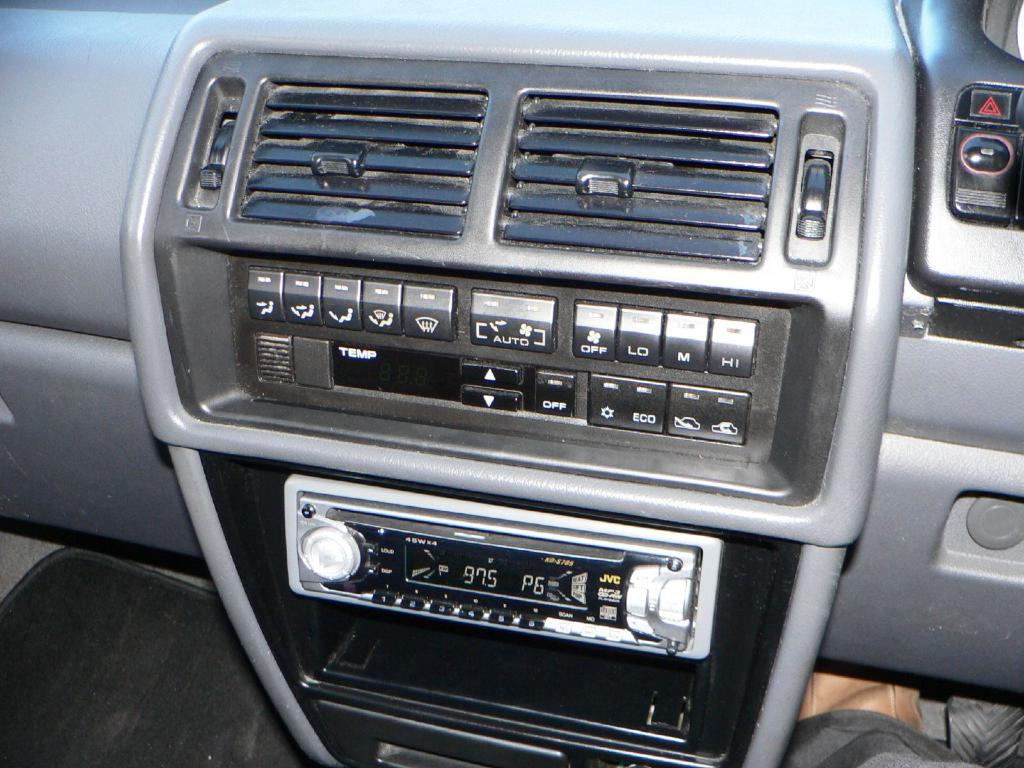Car: (63, 37, 996, 768)
